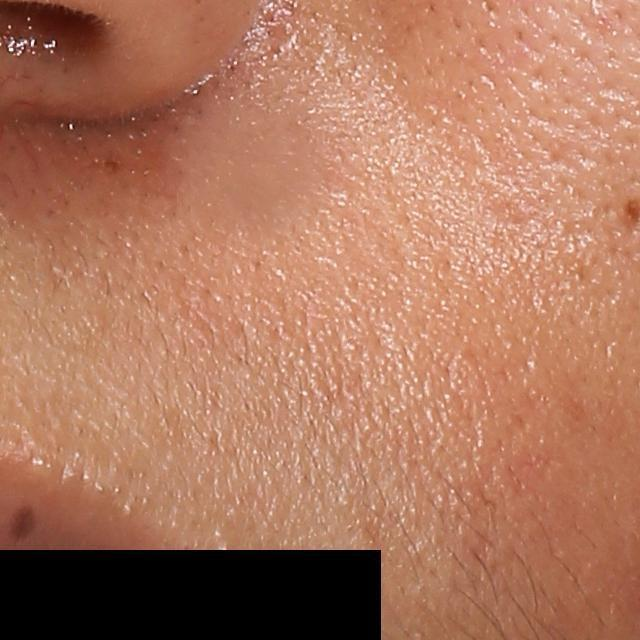nevus: (7, 500, 39, 543)
